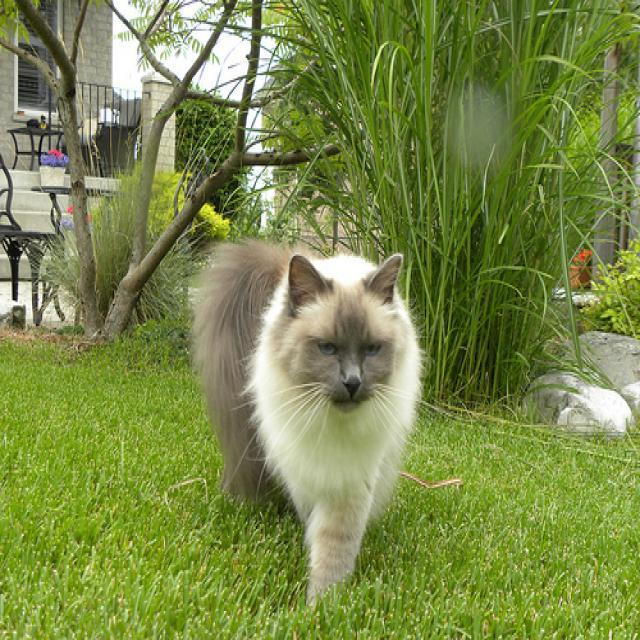Birman: (287, 249, 401, 411)
